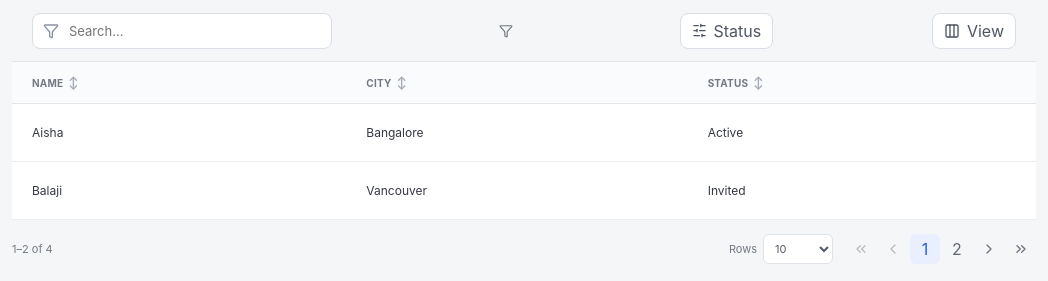
DataTable › supports sorting
Click the button with aria-label "Sort by Name": (55, 82) [32,75,79,90]
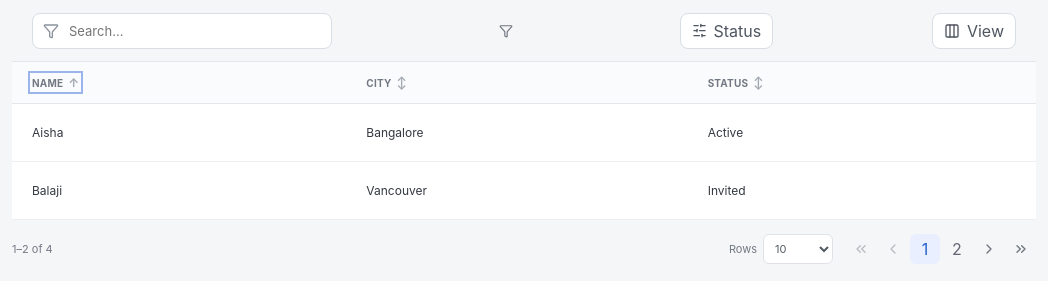
Expected: the text "Aisha" is shown, [12,104,353,162]
Click the button with aria-label "Sort by Name": (56, 82) [32,75,79,90]
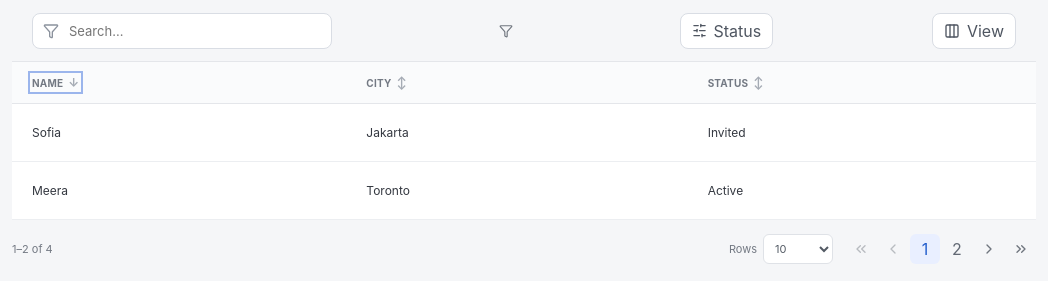
Now the text "Sofia" is shown, box [12,104,353,162]
